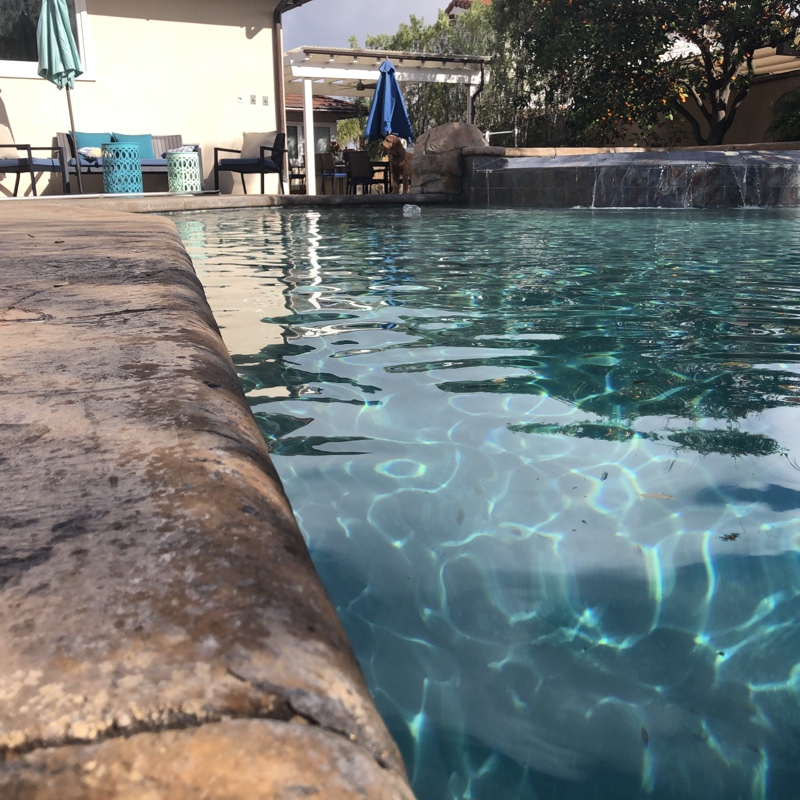Plastic Bottle: (399, 197, 423, 221)
